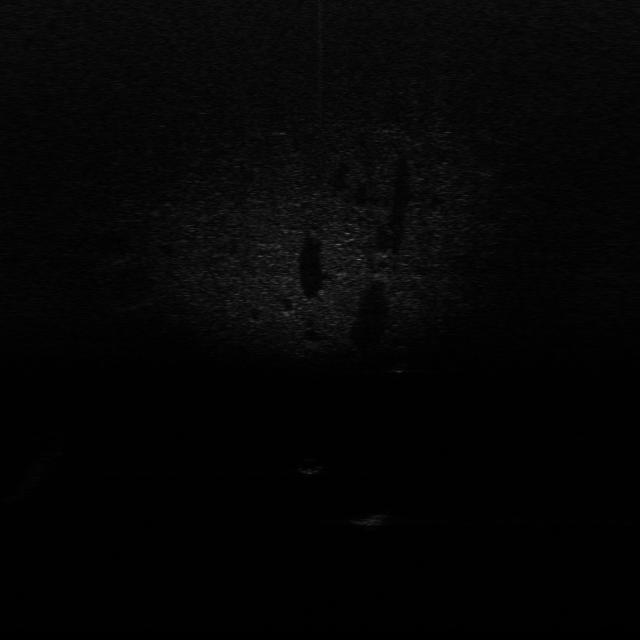ball: (294, 456, 326, 477)
square cage: (354, 508, 396, 528)
tyre: (387, 344, 408, 372)
